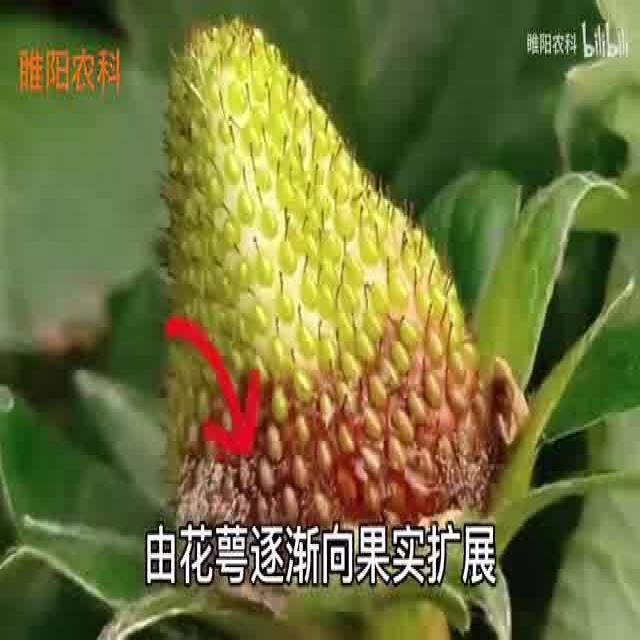Moho gris: (159, 12, 512, 574)
